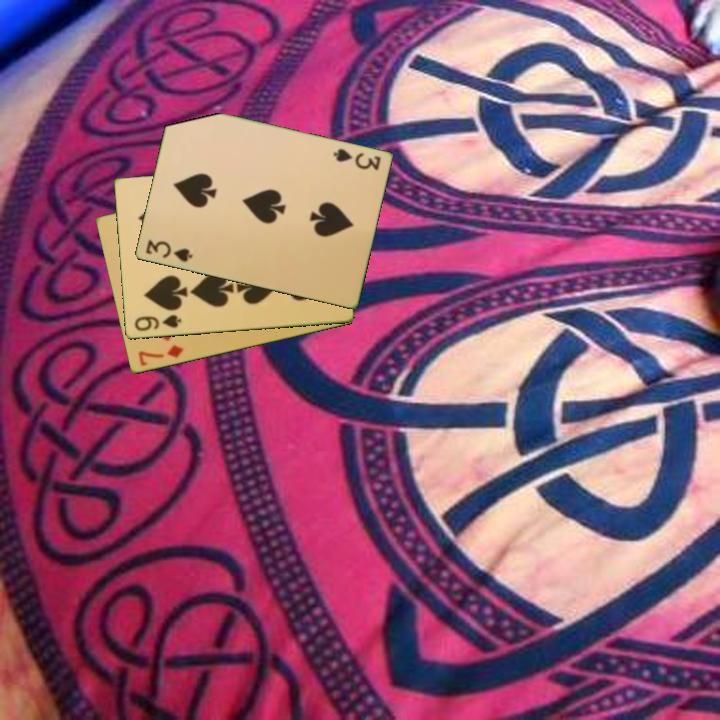3s: (329, 145, 383, 174), (142, 236, 195, 265)
7d: (135, 342, 186, 369)
9s: (131, 311, 184, 334)
